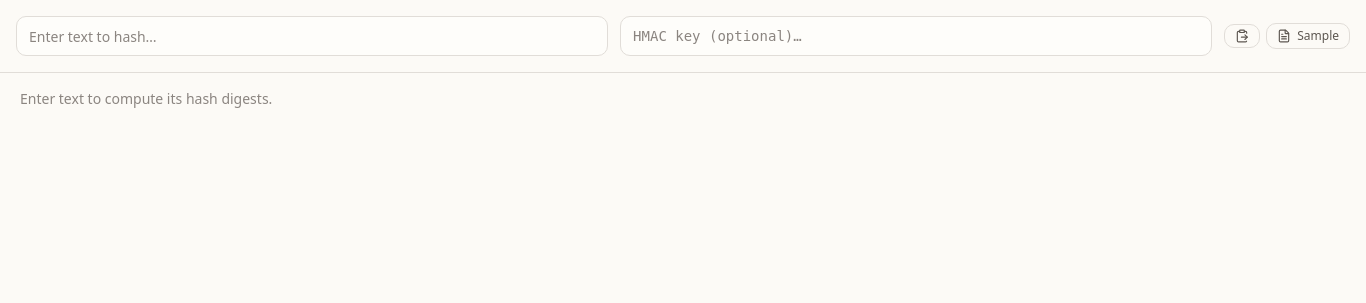
Test: HashTool › shows digests for the input
Step 1. Type "abc" into the field labelled "text to hash" → (312, 36), box [16,16,608,56]
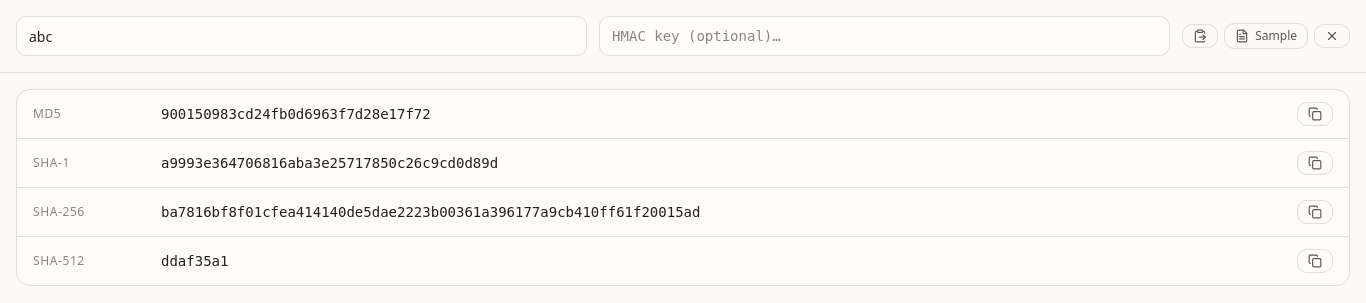
Expected: the text "900150983cd24fb0d6963f7d28e17f72" is shown, [161,106,431,122]
